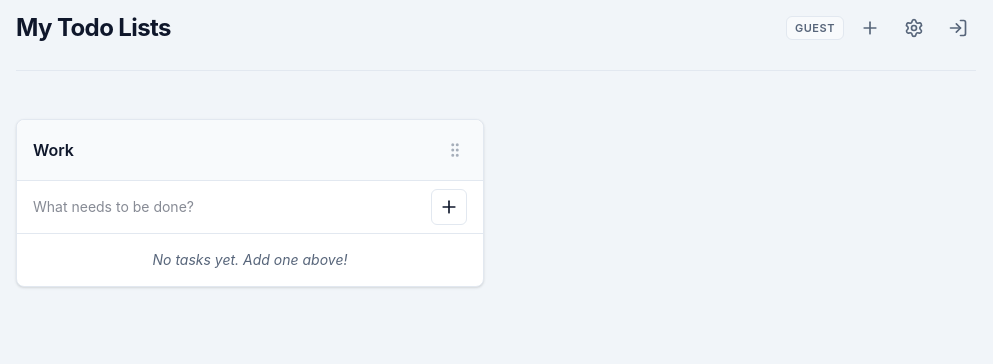
Test case: App › can add a new todo
The width and height of the screenshot is (993, 364).
Type "New Task" into the field with placeholder "What needs to be done?". click: (228, 207)
box: [33,189,423,225]
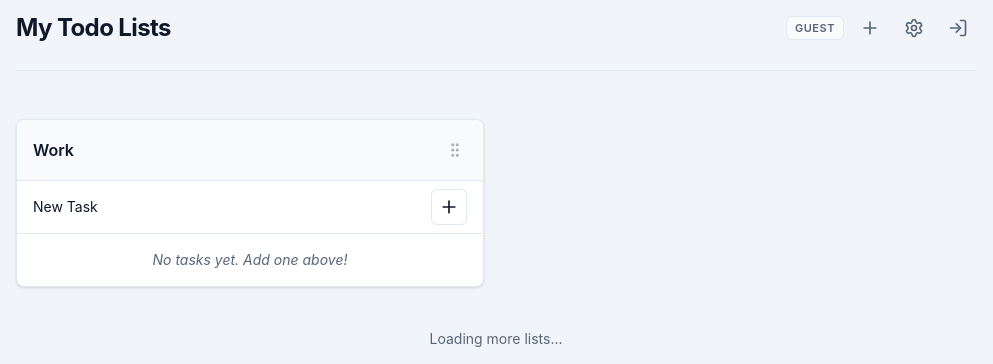
Click the button named "Add task". click: (449, 207)
box: [431,189,467,225]
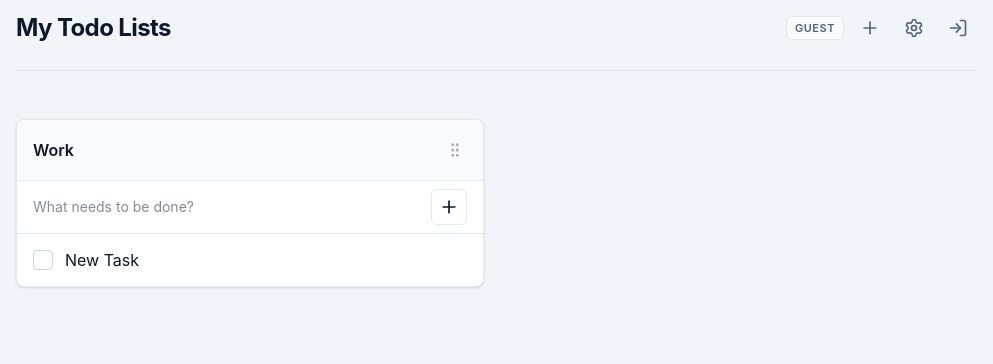
Now the button with aria-label "Edit task" is shown, box [65,248,411,272]
